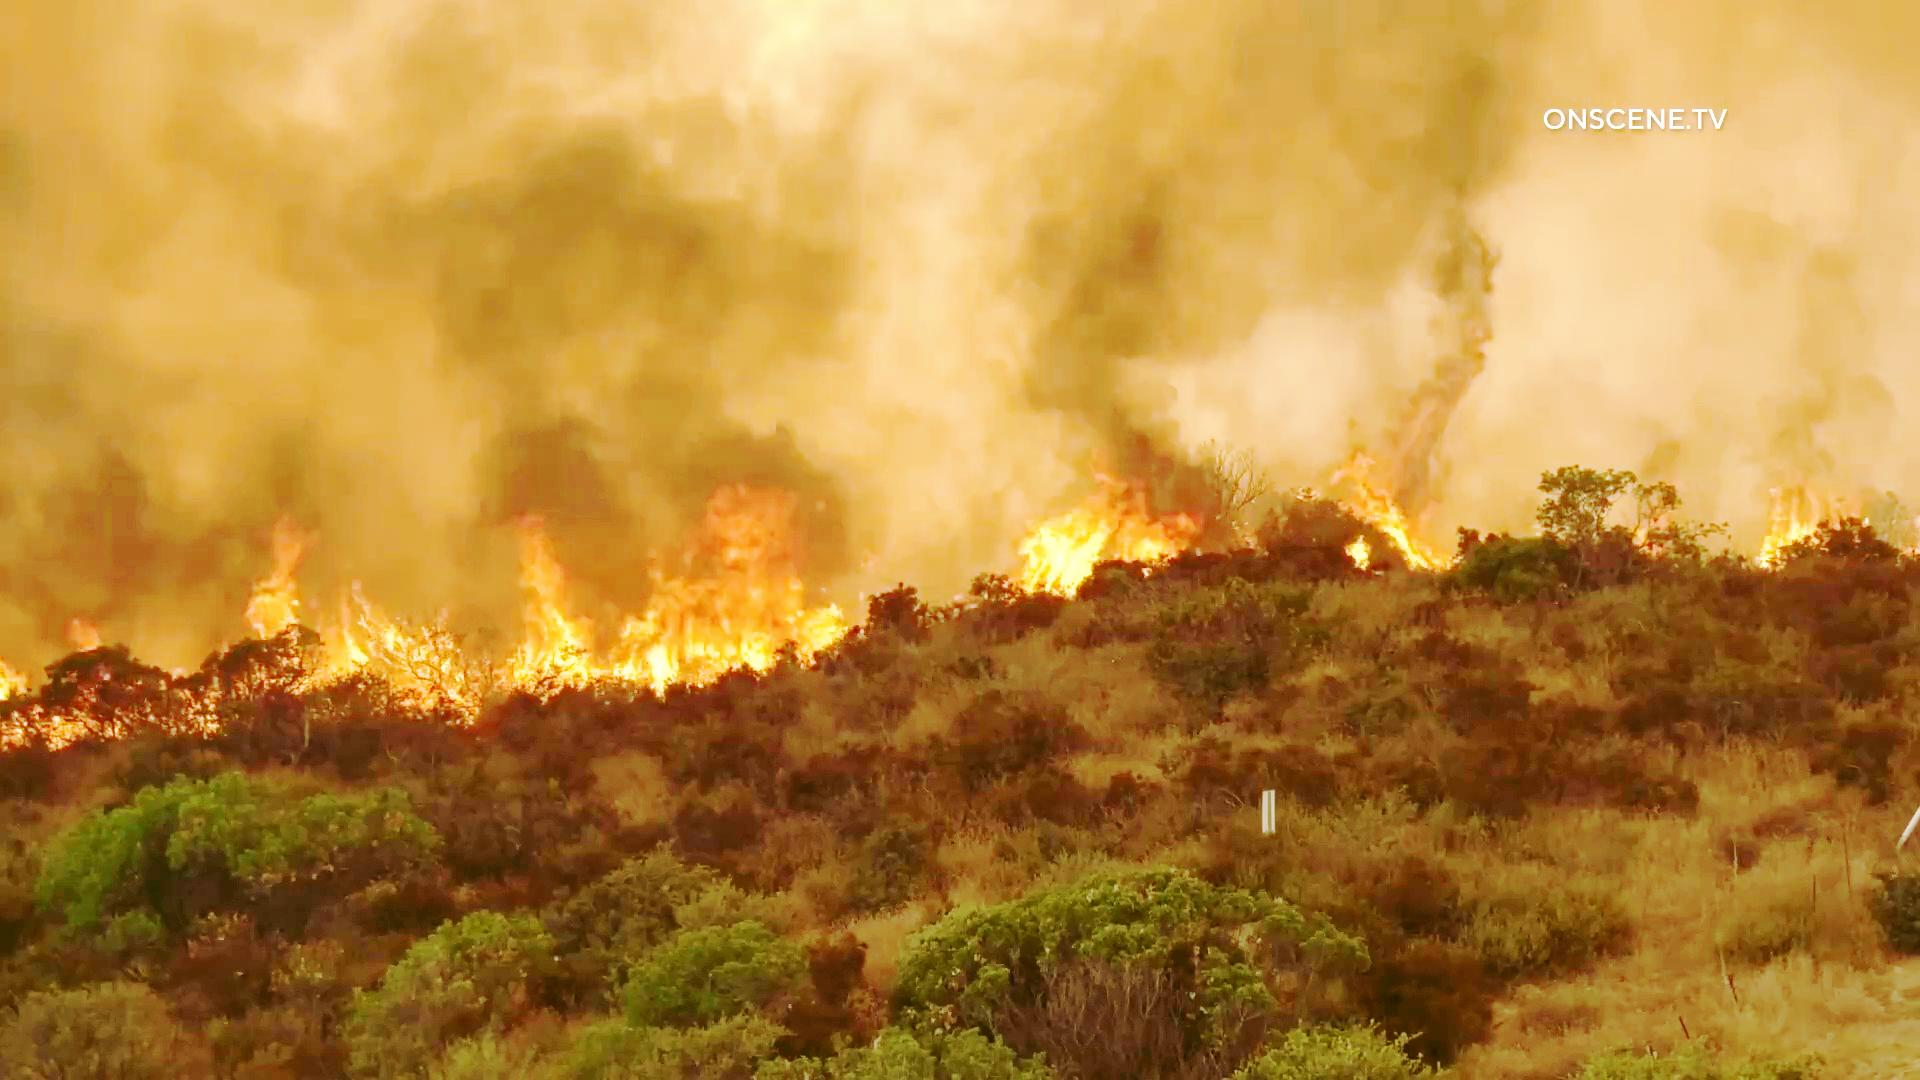fire: (640, 493, 831, 715), (460, 502, 653, 720), (256, 526, 483, 704), (996, 433, 1199, 622), (1341, 451, 1458, 587)
smoke: (388, 73, 827, 492), (1035, 66, 1222, 467)
